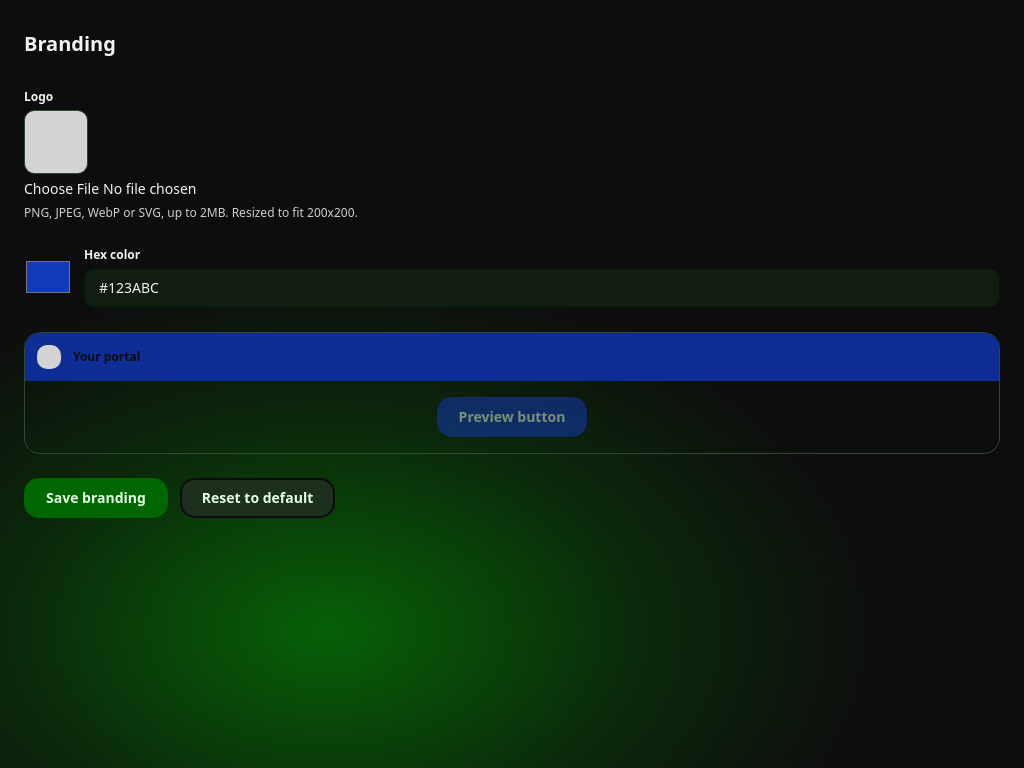
BrandingPage › "Reset to default" PATCHes resetToDefault without a confirm step, restores the default colour/logo and toasts
The image size is (1024, 768).
Check: the field labelled "Hex color" holds "#123ABC", box x1=84 y1=268 x2=1000 y2=308
Click the button "Reset to default".
click(258, 498)  # box x1=180 y1=478 x2=335 y2=518
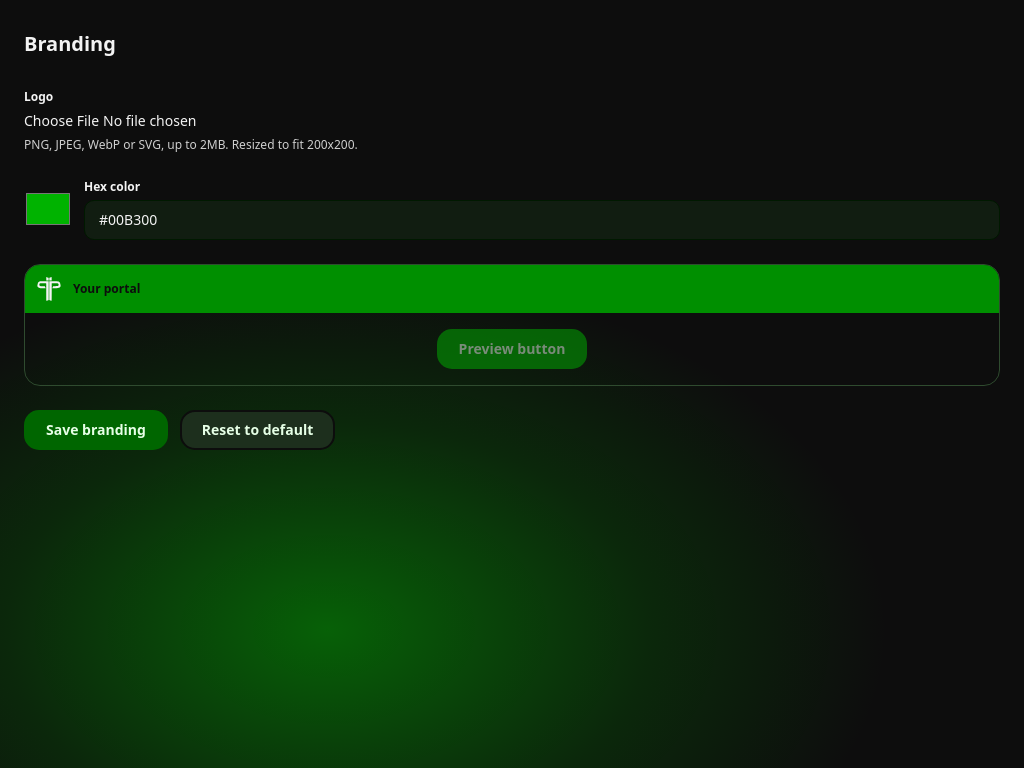
Check: the field labelled "Hex color" holds "#00B300", box x1=84 y1=200 x2=1000 y2=240
